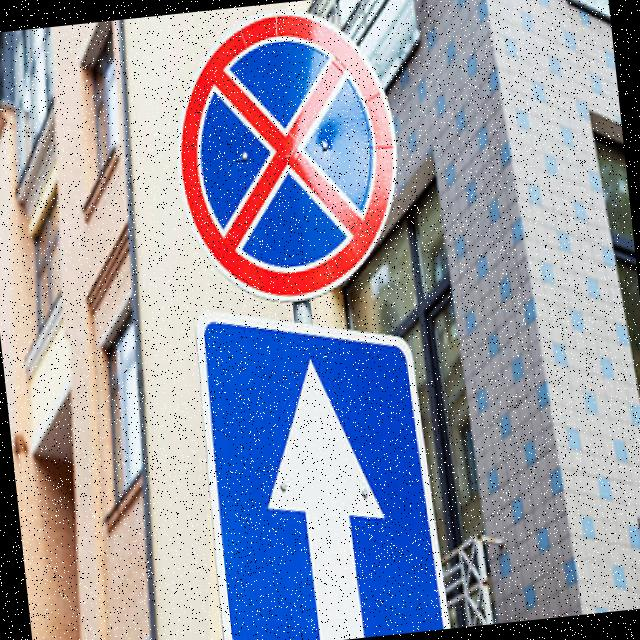no_parking: (157, 0, 426, 315)
